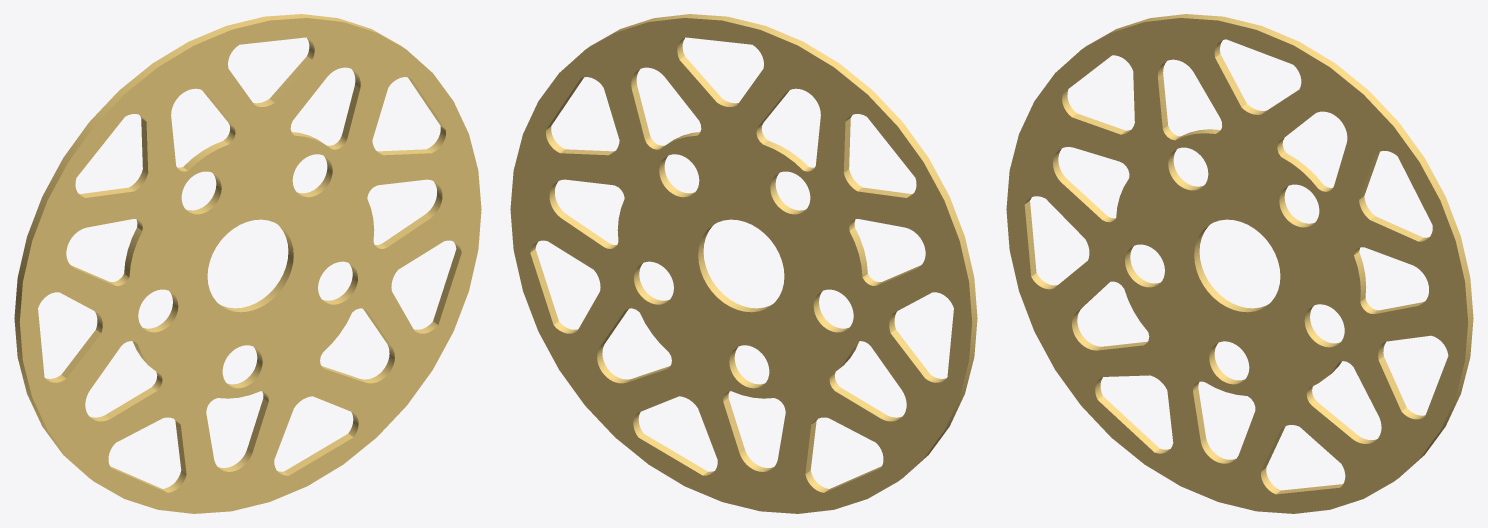
File: Akiruhanui_ReVOLT_EV_Kawasaki_Front_Brake_Disk_Pt_2.obj
The picture shows the model from 3 angles, left to right: view 1: azimuth 30°, elevation 25°; view 2: azimuth 150°, elevation 25°; view 3: azimuth 330°, elevation 25°; orthographic projection.
Parts seen in each view (by area): view 1: Cut-Extrude10; view 2: Cut-Extrude10; view 3: Cut-Extrude10.
Boxes of the visible parts, x1,y1,x2,y2 form: Cut-Extrude10: (14, 14, 481, 513); Cut-Extrude10: (510, 14, 977, 513); Cut-Extrude10: (1006, 14, 1473, 513).
Size of the model in its own units: 150 by 149 by 3.
